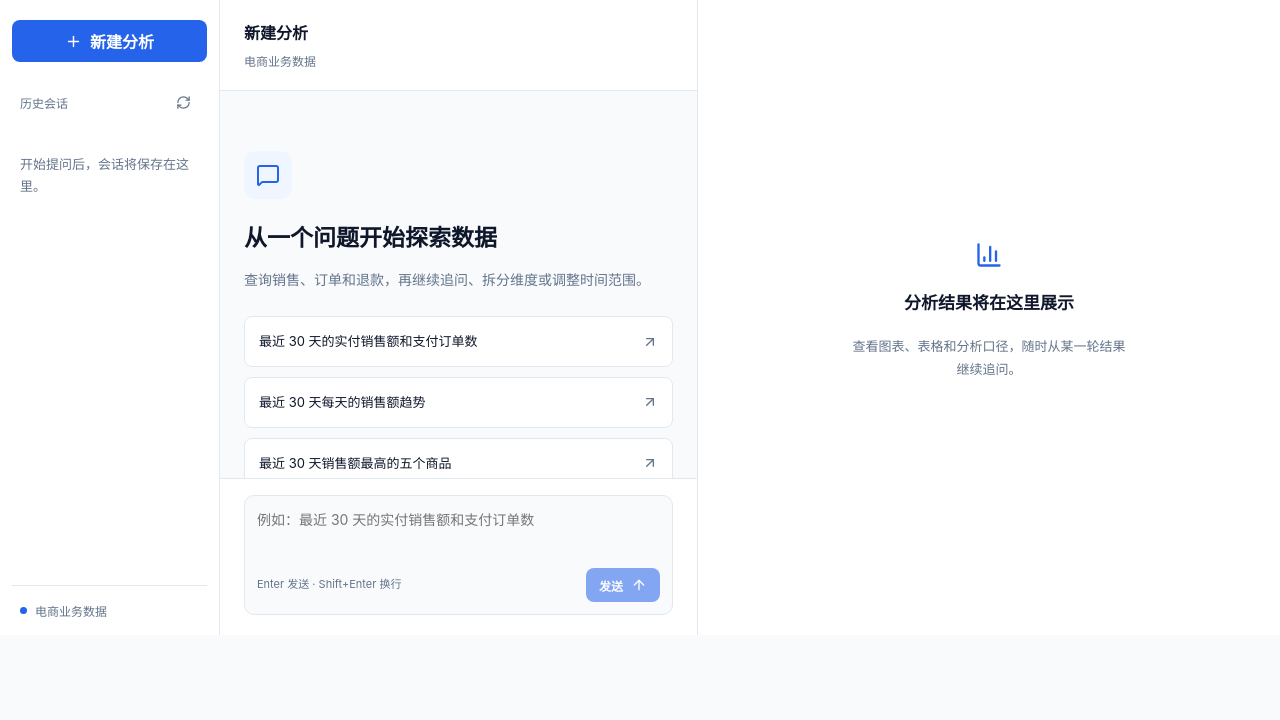
it: renders progress, stops analysis and enables the next submission
Type "订单数" into the text box with placeholder "例如：最近 30 天的实付销售额和支付订单数" at (458, 533), box [257, 508, 660, 558]
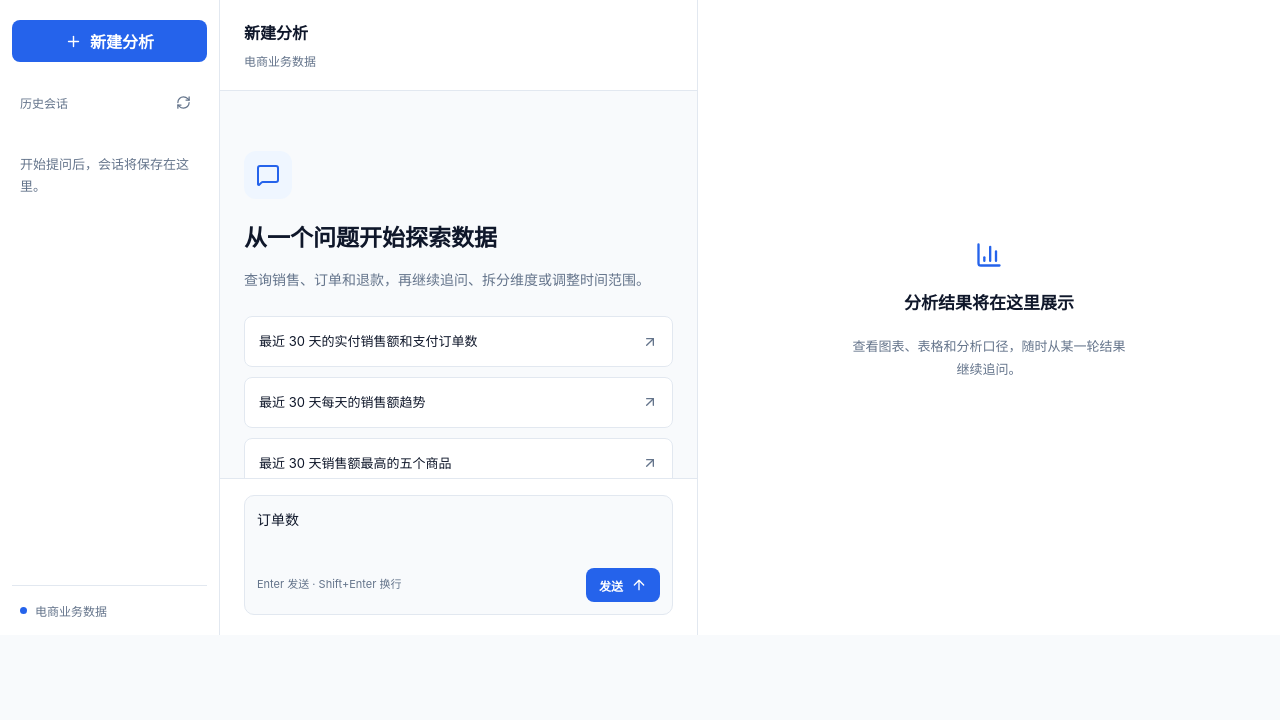
Submit the form, box [244, 495, 673, 615]
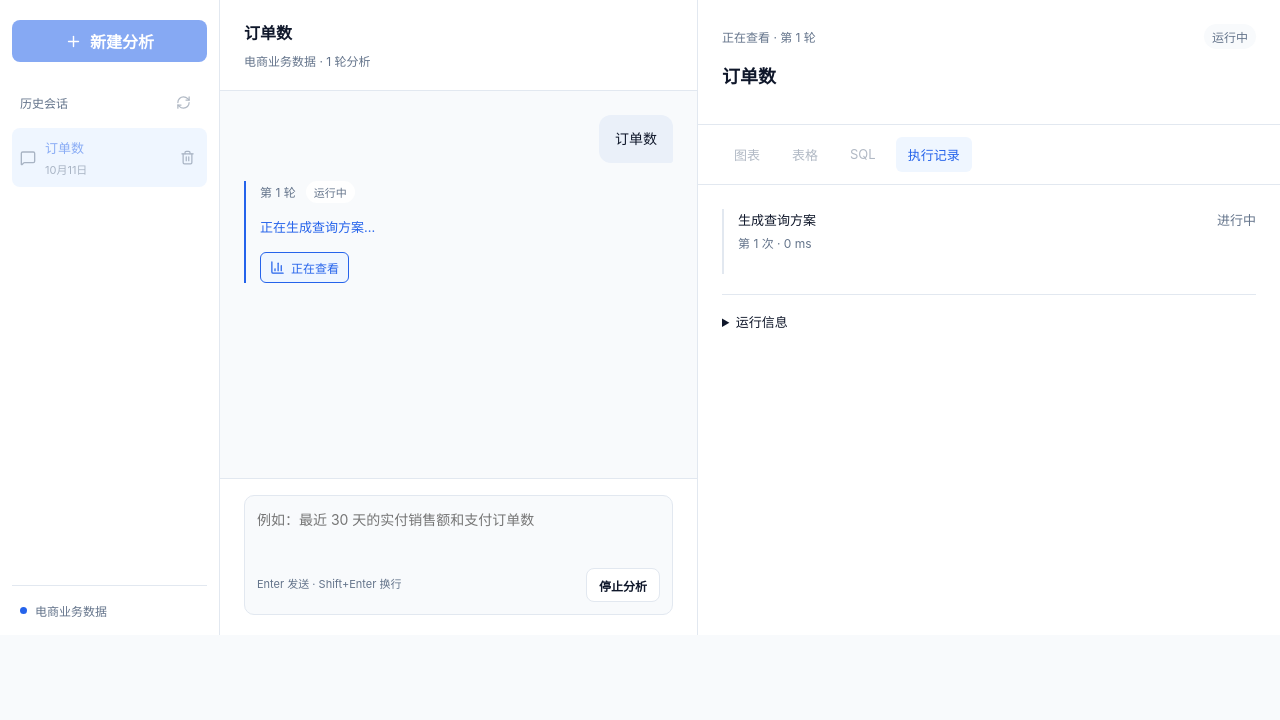
Expected: the text "正在生成查询方案" is shown, [260, 219, 375, 235]
Click the button "停止分析" at (623, 585), box [586, 568, 660, 602]
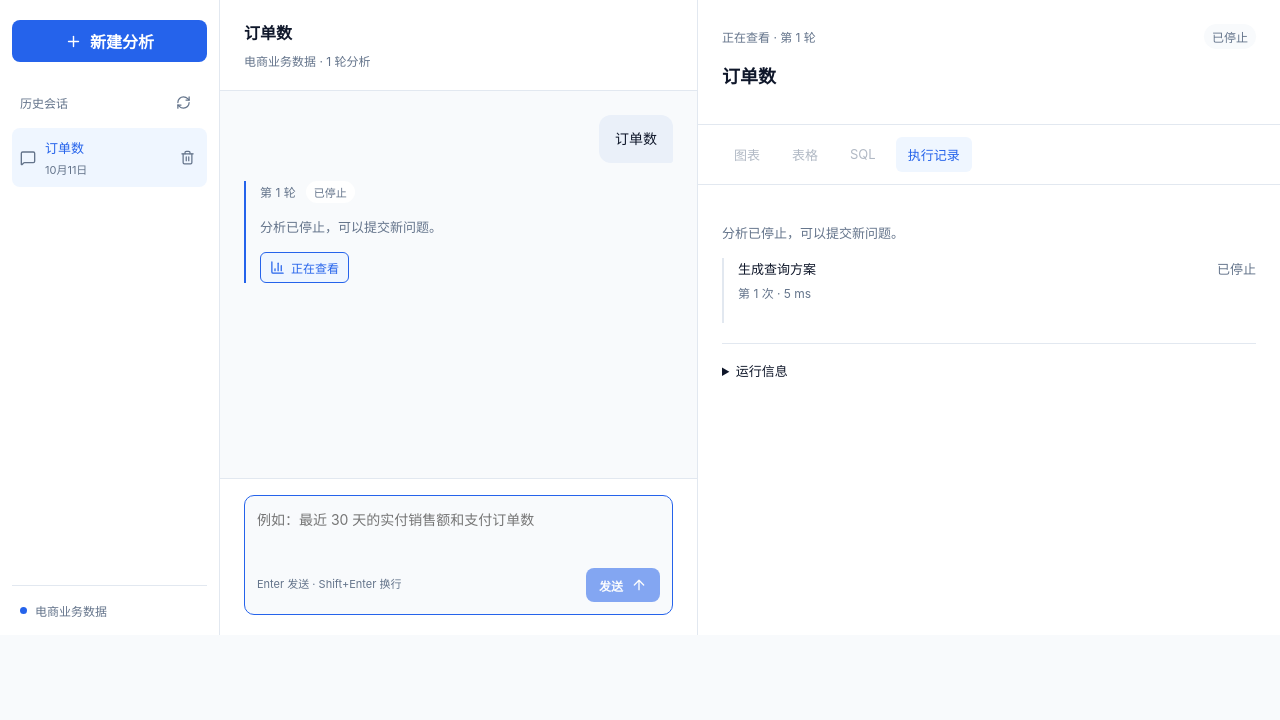
Expected: the text box with placeholder "例如：最近 30 天的实付销售额和支付订单数" is enabled, [257, 508, 660, 558]
Expected: the text with class "badge" below "· 1 轮分析" reads "已停止", [314, 186, 347, 200]
Expected: the text "可以提交新问题" is shown, [260, 219, 442, 235]
